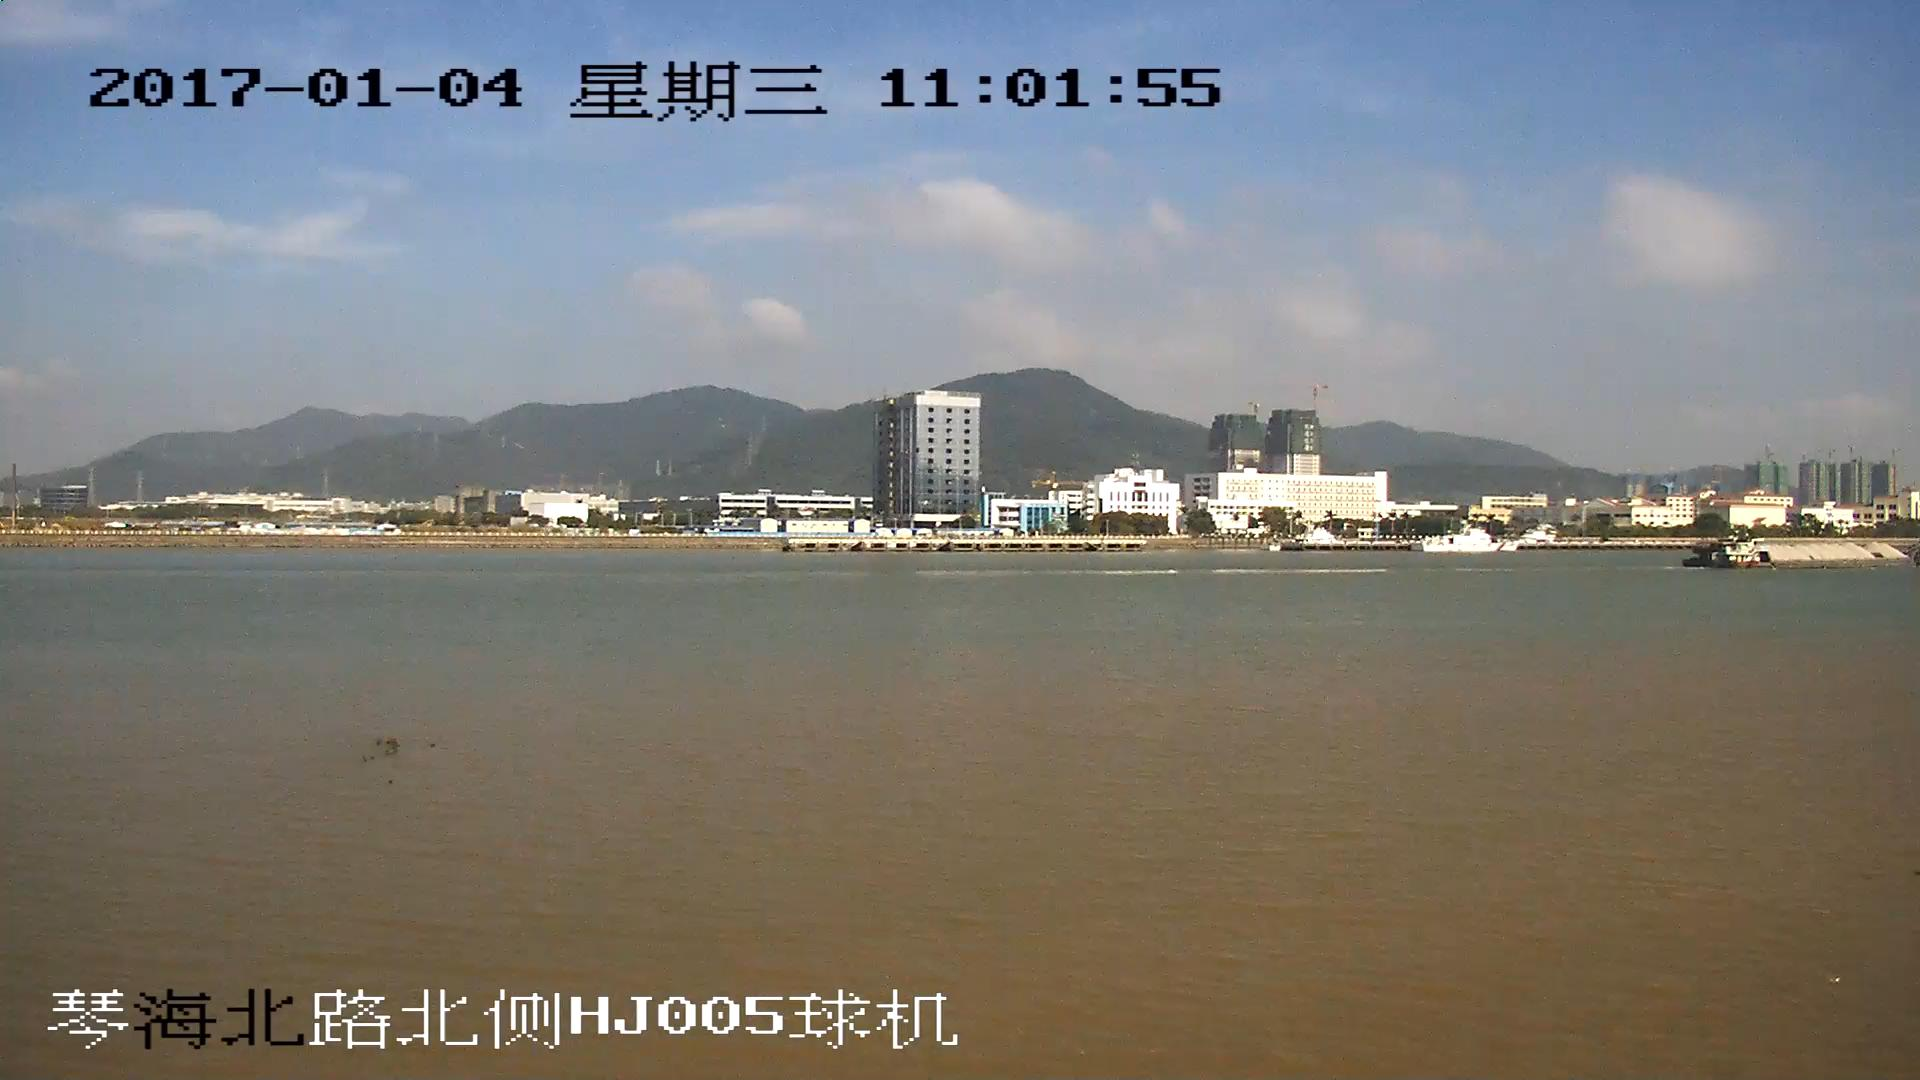ore carrier: (1694, 535, 1920, 569)
